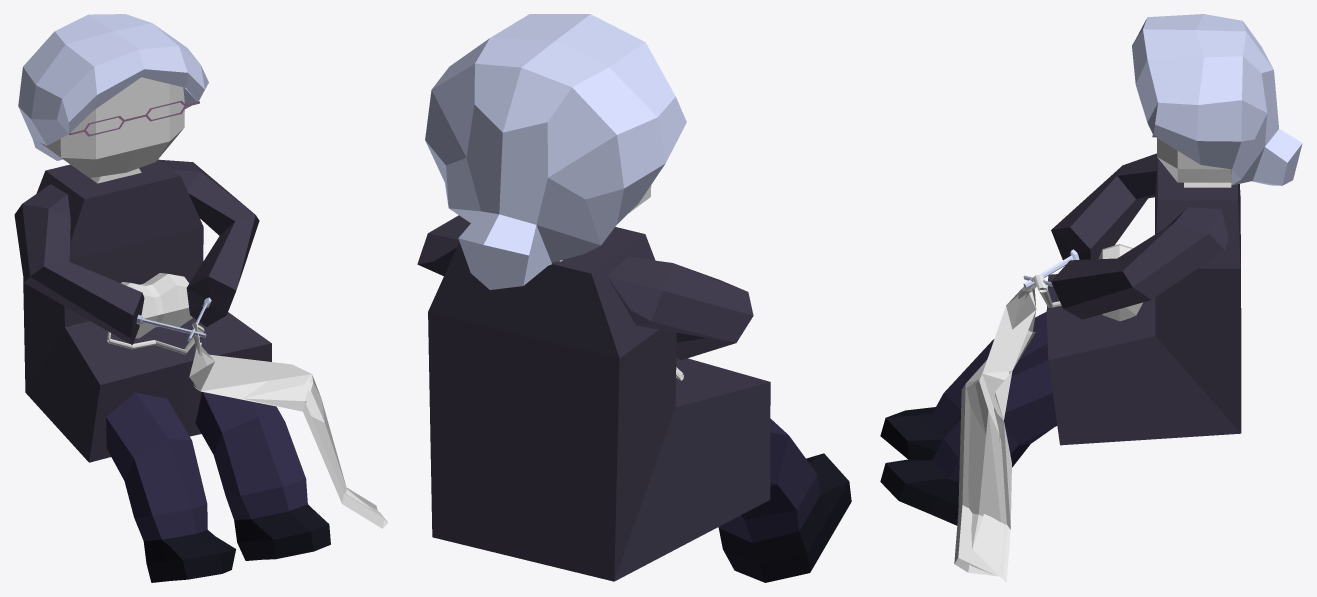
The model's file is finished old lady.fbx.
3 views of the same model, side by side, from view 1: azimuth 30°, elevation 25°; view 2: azimuth 150°, elevation 25°; view 3: azimuth 270°, elevation 25° (orthographic). The views are drawn at different scales.
Parts seen in each view (by area): view 1: torso, leg, arm, hair, wool, head, knitting, glasses; view 2: torso, hair, leg, arm; view 3: torso, hair, arm, wool, leg, head.
Boxes of the visible parts, x1,y1,x2,y2 form: torso: [23, 159, 271, 462]; leg: [106, 392, 330, 582]; arm: [14, 159, 259, 344]; hair: [18, 14, 208, 160]; wool: [107, 273, 387, 528]; head: [40, 77, 184, 183]; knitting: [136, 297, 211, 341]; glasses: [69, 100, 199, 136]; torso: [428, 227, 770, 581]; hair: [425, 14, 686, 289]; leg: [718, 418, 851, 582]; arm: [417, 215, 753, 360]; torso: [1046, 158, 1241, 445]; hair: [1132, 14, 1302, 185]; arm: [1051, 153, 1228, 319]; wool: [954, 244, 1142, 582]; leg: [880, 311, 1057, 525]; head: [1157, 138, 1231, 187].
Bounding box in the file's own units: 117 × 179 × 146.
